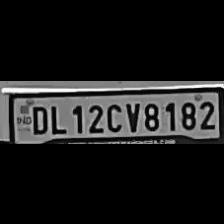1: (68, 100, 84, 132), (161, 98, 177, 130)
2: (84, 100, 104, 132), (196, 97, 216, 129)
8: (140, 98, 160, 130), (178, 97, 196, 129)
C: (104, 100, 122, 132)
D: (27, 100, 49, 134)
L: (48, 100, 68, 134)
V: (123, 99, 141, 131)
